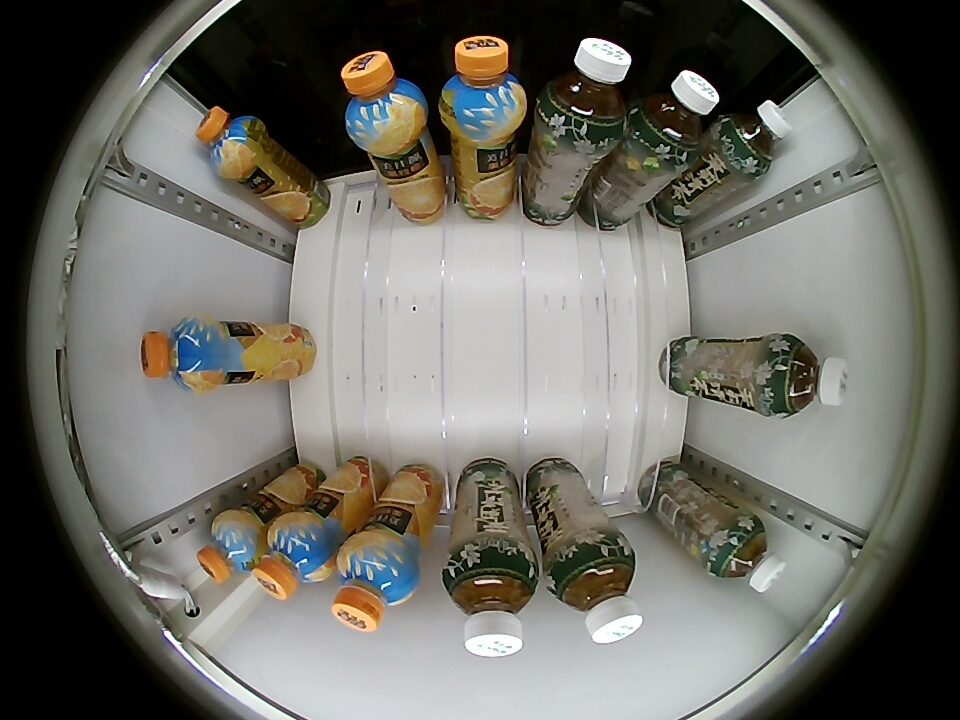guolicheng: (439, 35, 529, 140), (342, 50, 429, 152), (332, 533, 420, 632), (253, 512, 337, 600), (140, 315, 220, 392), (195, 105, 267, 179), (197, 509, 265, 583)
moliqingcha: (536, 37, 633, 145), (443, 549, 539, 658), (548, 541, 642, 645), (629, 70, 719, 161), (764, 334, 850, 418), (705, 514, 786, 592), (718, 99, 792, 174)
